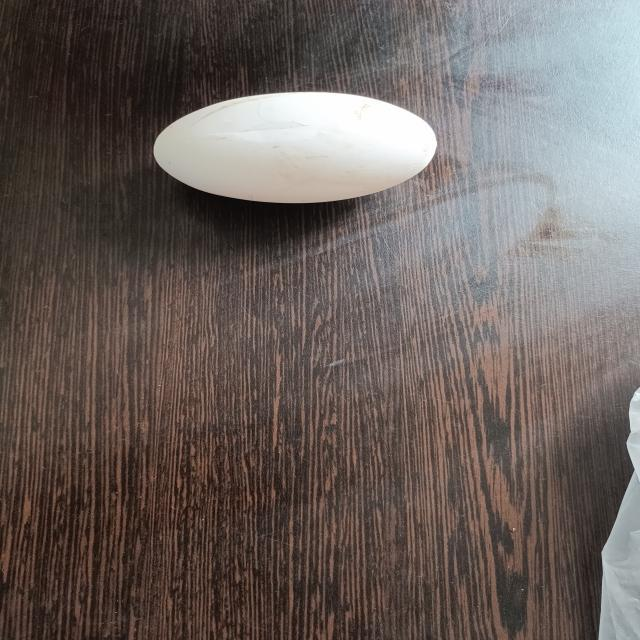biodegradable: (135, 86, 446, 210)
